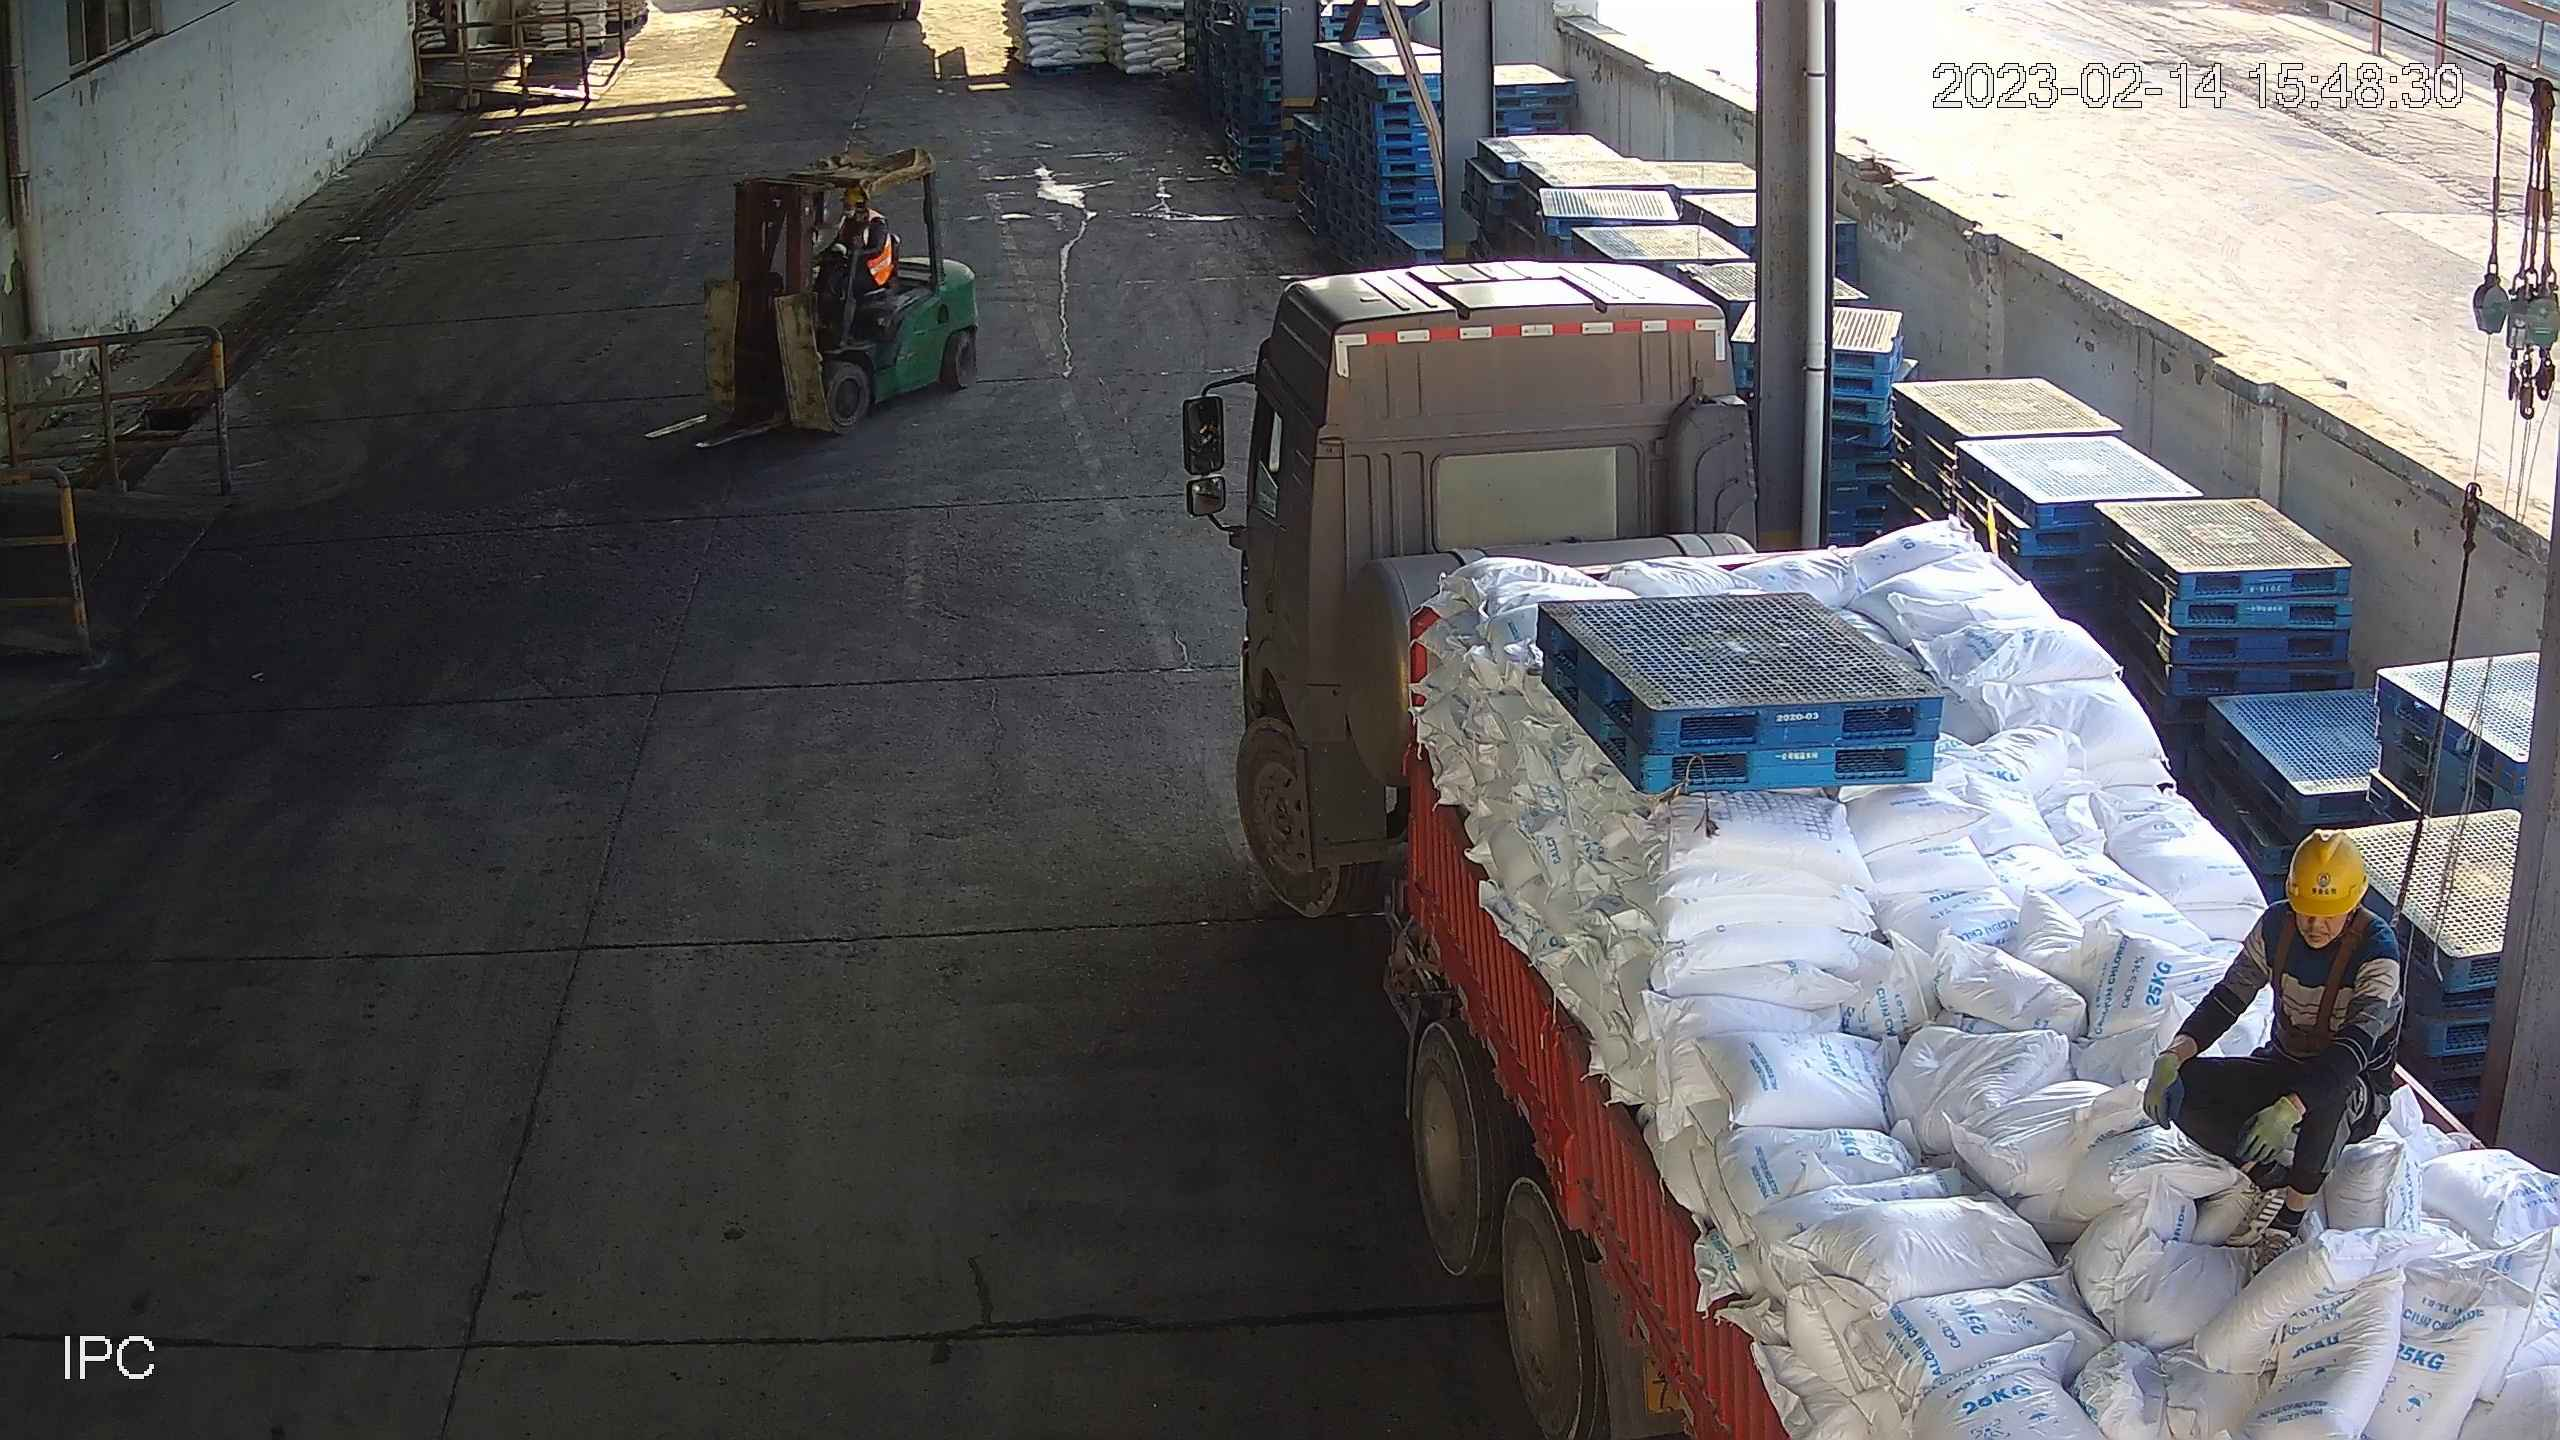belt: (2268, 901, 2410, 1064)
head: (2238, 827, 2402, 952)
helmet: (2285, 828, 2371, 917)
people: (2140, 827, 2404, 1272)
truck: (1231, 260, 2560, 1440)
